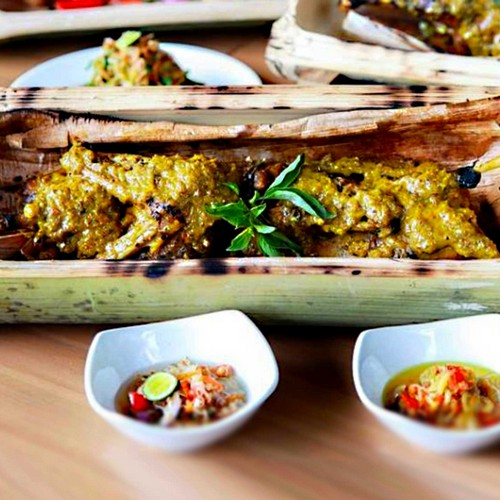bebek timbungan: (10, 122, 496, 277)
